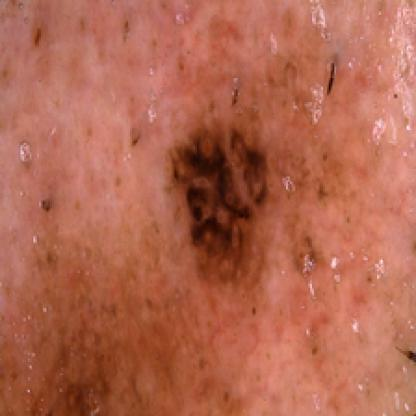malignant: (158, 87, 288, 282)
